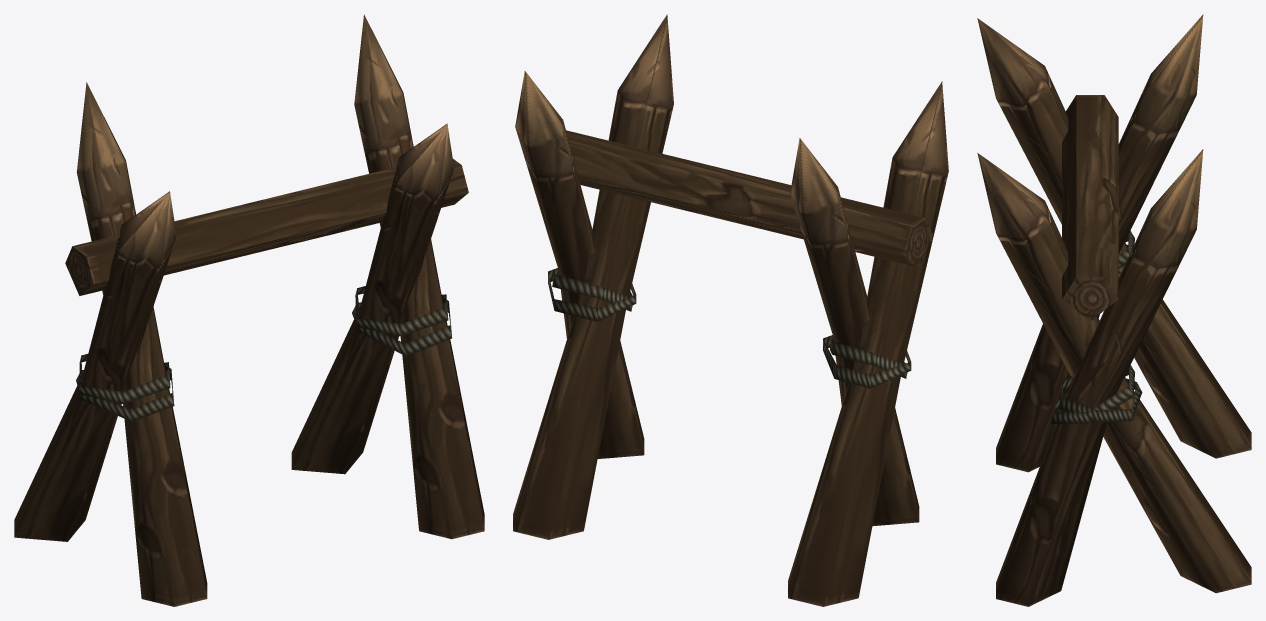
Rendered from mobile_scaffolding_01.fbx.
3 views of the same model, side by side, from view 1: azimuth 30°, elevation 25°; view 2: azimuth 150°, elevation 25°; view 3: azimuth 270°, elevation 25° (orthographic).
Parts seen in each view (by area): view 1: mobile_scaffolding_01; view 2: mobile_scaffolding_01; view 3: mobile_scaffolding_01.
Boxes of the visible parts, x1,y1,x2,y2 form: mobile_scaffolding_01: (14,14,484,606); mobile_scaffolding_01: (513,14,948,606); mobile_scaffolding_01: (977,14,1251,606).
Size of the model in its own units: 265 by 299 by 168.
